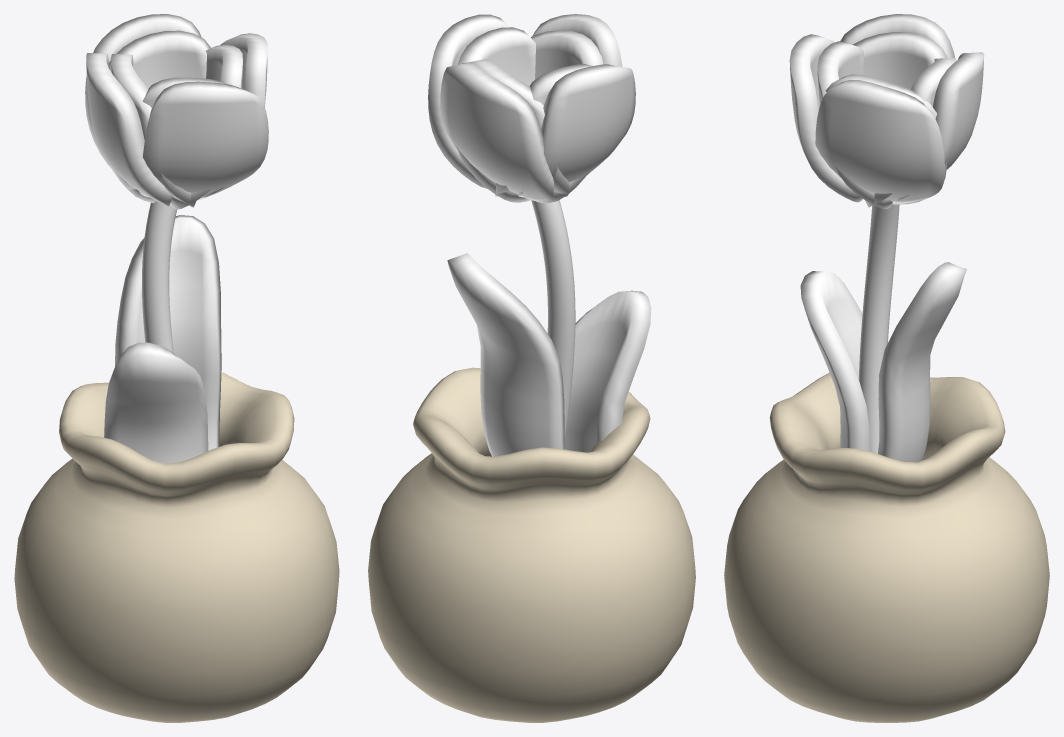
The model's file is flower.glb.
3 views of the same model, side by side, from view 1: azimuth 30°, elevation 25°; view 2: azimuth 150°, elevation 25°; view 3: azimuth 270°, elevation 25° (orthographic).
Parts seen in each view (by area): view 1: 円柱, 平面, 平面.001, NURBSパス; view 2: 円柱, 平面, 平面.001, NURBSパス; view 3: 円柱, 平面, 平面.001, NURBSパス.
Part boxes in pixels (x1,y1,x2,y2): 円柱: [14, 372, 339, 722]; 平面: [85, 14, 268, 209]; 平面.001: [104, 215, 221, 463]; NURBSパス: [142, 201, 176, 352]; 円柱: [368, 367, 695, 722]; 平面: [428, 14, 635, 202]; 平面.001: [447, 253, 651, 456]; NURBSパス: [531, 200, 575, 441]; 円柱: [724, 373, 1049, 722]; 平面: [789, 14, 984, 209]; 平面.001: [800, 262, 966, 462]; NURBSパス: [858, 204, 899, 453].
Bounding box in the file's own units: 2.38 × 5.2 × 2.38.
